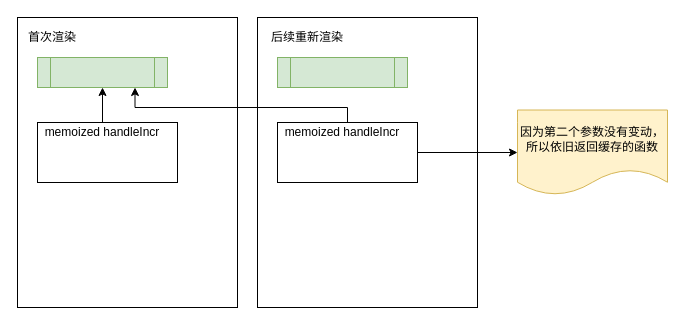
This 685x325 diagram has some shape labels left out. Here are the shapes that lost their labels. From the top down, the box of each, then its label:
(36, 56, 168, 88): count = 0
(276, 56, 408, 88): count = 1
